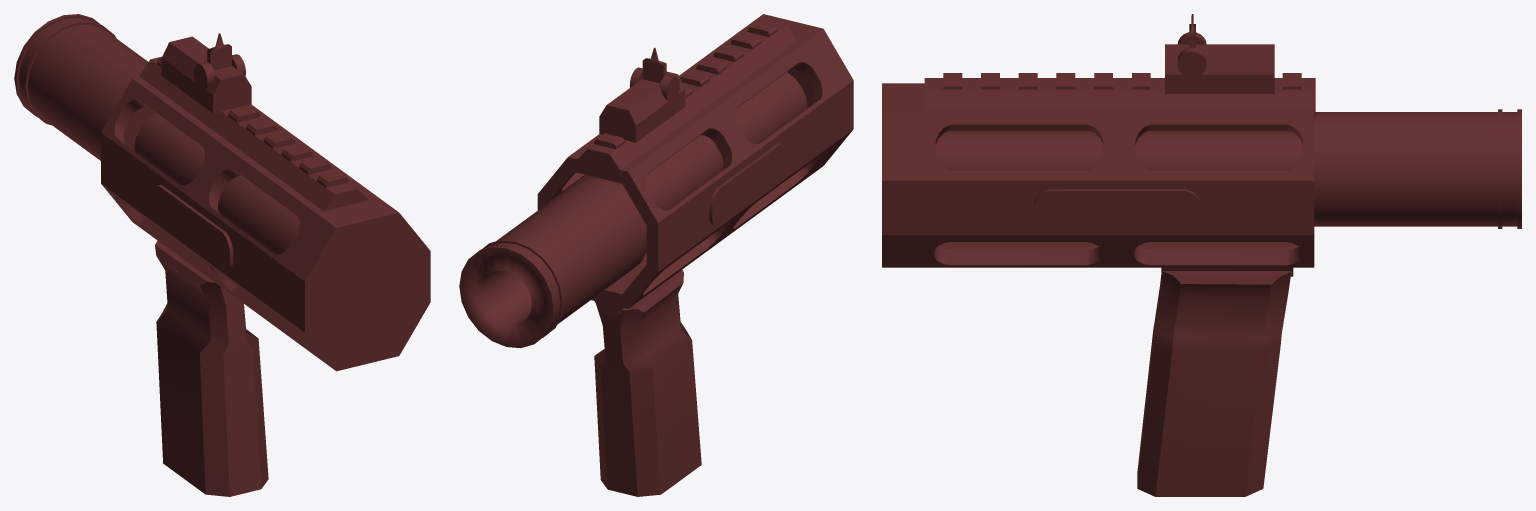
File: Barrel_3.fbx
3 renders of one model, left to right at view 1: azimuth 30°, elevation 25°; view 2: azimuth 150°, elevation 25°; view 3: azimuth 270°, elevation 25°, orthographic. The views are drawn at different scales.
Parts seen in each view (by area): view 1: Barrel_3; view 2: Barrel_3; view 3: Barrel_3.
Boxes of the visible parts, x1,y1,x2,y2 form: Barrel_3: [14, 14, 430, 496]; Barrel_3: [459, 14, 853, 496]; Barrel_3: [882, 14, 1521, 496].
Bounding box in the file's own units: 0.2511 × 0.8024 × 0.9976.
